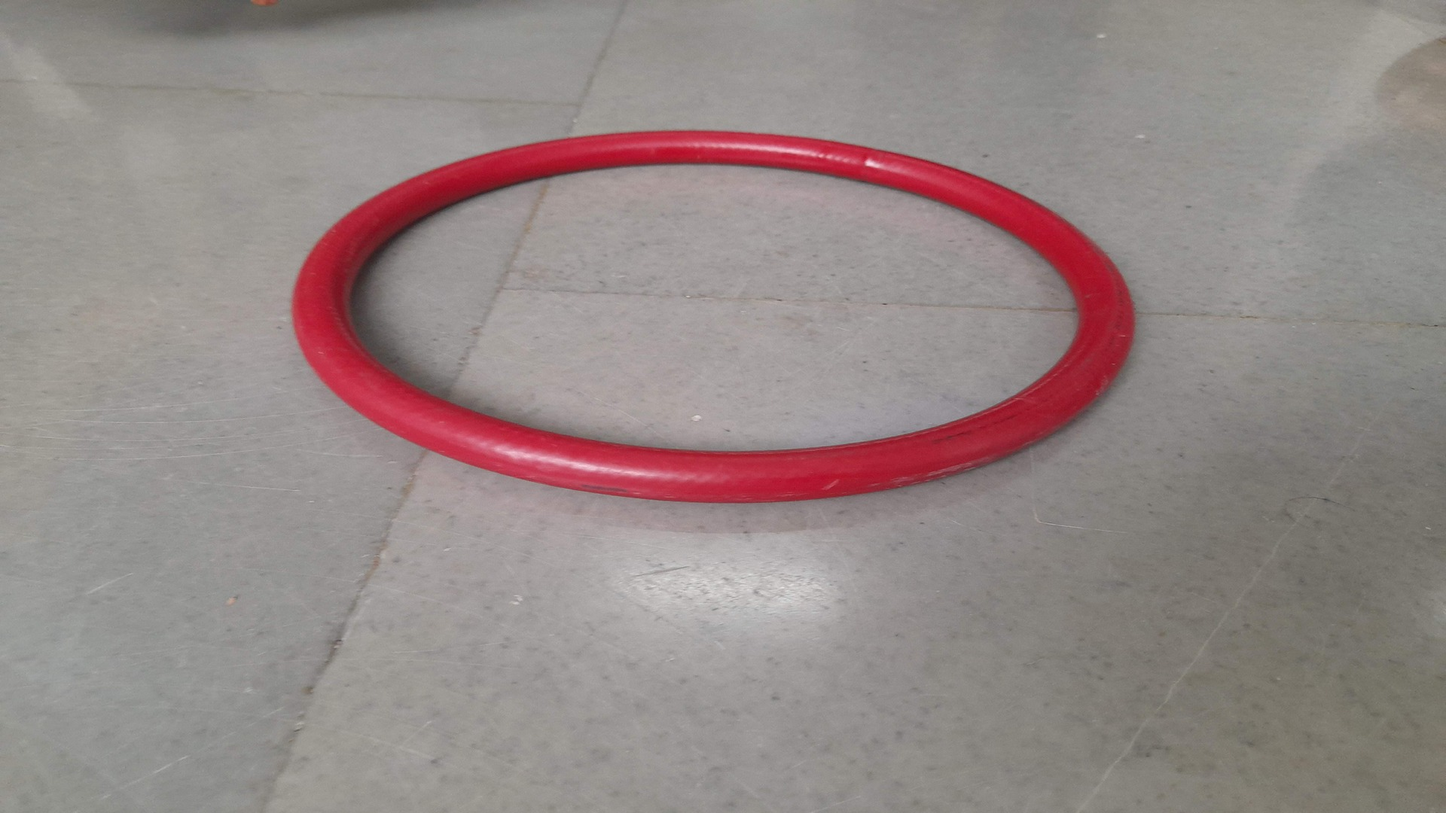Red ring: (297, 130, 1134, 496)
